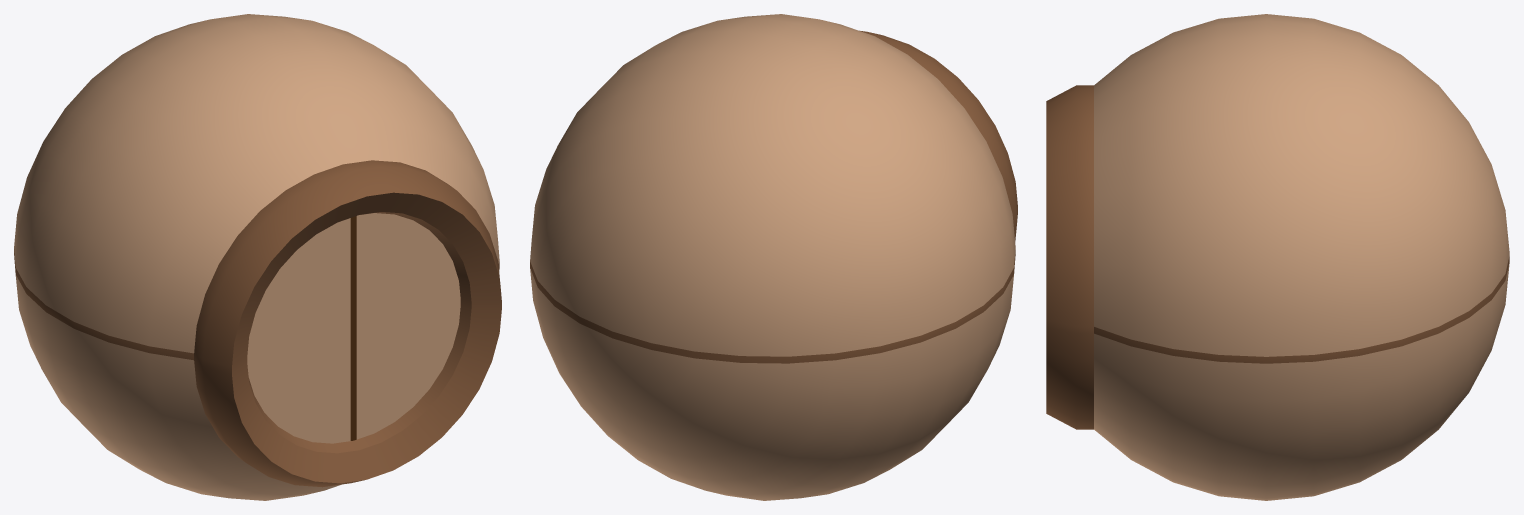
The model's file is quaternius-ultimate-space-pack-house-single-transformed.glb.
3 renders of one model, left to right at view 1: azimuth 30°, elevation 25°; view 2: azimuth 150°, elevation 25°; view 3: azimuth 270°, elevation 25°, orthographic.
Visible parts, largest first — view 1: House_Single; view 2: House_Single; view 3: House_Single.
Part boxes in pixels (x1,y1,x2,y2): House_Single: (14,14,501,500); House_Single: (530,14,1017,500); House_Single: (1046,14,1509,500).
Size of the model in its own units: 3.99 by 4 by 3.8.
1 material, 1 textured.
